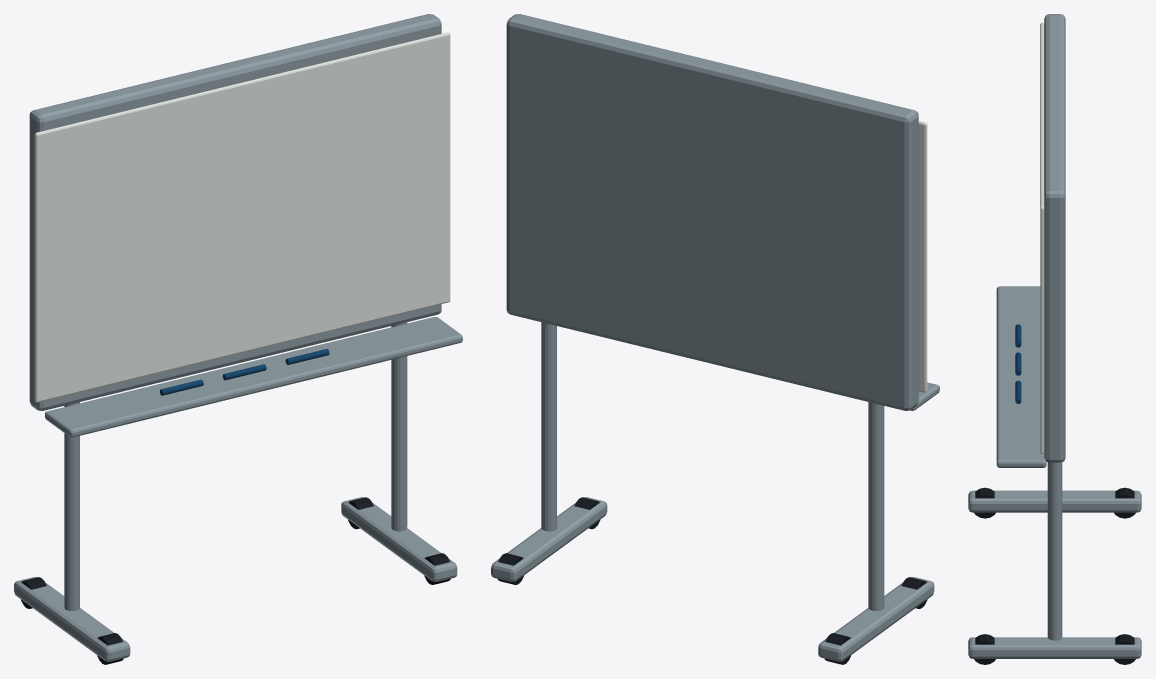
Rendered from edited.glb.
The picture shows the model from 3 angles, left to right: view 1: azimuth 30°, elevation 25°; view 2: azimuth 150°, elevation 25°; view 3: azimuth 270°, elevation 25°; orthographic projection. The views are drawn at different scales.
Parts seen in each view (by area): view 1: BOARD_Surface, BOARD_Frame, MARKER_Tray, FOOT.001, FOOT, STAND_Upright.001, STAND_Upright; view 2: BOARD_Frame, STAND_Upright, STAND_Upright.001, FOOT, FOOT.001, BOARD_Surface; view 3: BOARD_Frame, MARKER_Tray, FOOT.001, FOOT, STAND_Upright.001, BOARD_Surface, CASTER.001, CASTER.002, CASTER, CASTER.003.
Part boxes in pixels (left/top/right/bottom): BOARD_Surface: left=34, top=32, right=450, bottom=402; BOARD_Frame: left=29, top=14, right=441, bottom=410; MARKER_Tray: left=45, top=317, right=462, bottom=437; FOOT.001: left=341, top=497, right=457, bottom=581; FOOT: left=14, top=577, right=130, bottom=661; STAND_Upright.001: left=391, top=322, right=407, bottom=531; STAND_Upright: left=64, top=402, right=79, bottom=610; BOARD_Frame: left=506, top=14, right=918, bottom=410; STAND_Upright: left=868, top=402, right=884, bottom=610; STAND_Upright.001: left=541, top=322, right=556, bottom=531; FOOT: left=818, top=577, right=934, bottom=661; FOOT.001: left=491, top=497, right=607, bottom=581; BOARD_Surface: left=918, top=121, right=927, bottom=392; BOARD_Frame: left=1044, top=14, right=1065, bottom=462; MARKER_Tray: left=996, top=286, right=1046, bottom=467; FOOT.001: left=968, top=637, right=1141, bottom=658; FOOT: left=968, top=490, right=1141, bottom=512; STAND_Upright.001: left=1047, top=462, right=1062, bottom=640; BOARD_Surface: left=1040, top=22, right=1044, bottom=453; CASTER.001: left=974, top=487, right=995, bottom=518; CASTER.002: left=1114, top=487, right=1135, bottom=518; CASTER: left=1114, top=634, right=1135, bottom=664; CASTER.003: left=974, top=634, right=995, bottom=664.
Size of the model in its own units: 1.32 by 1.61 by 0.52.
